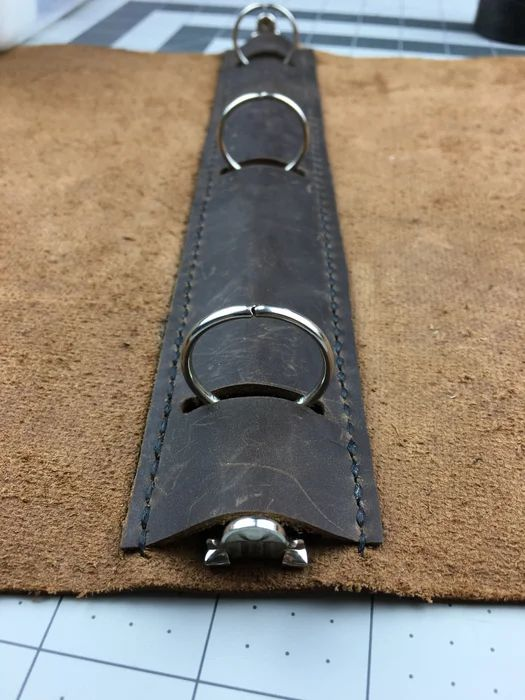cuero: (124, 32, 383, 550)
